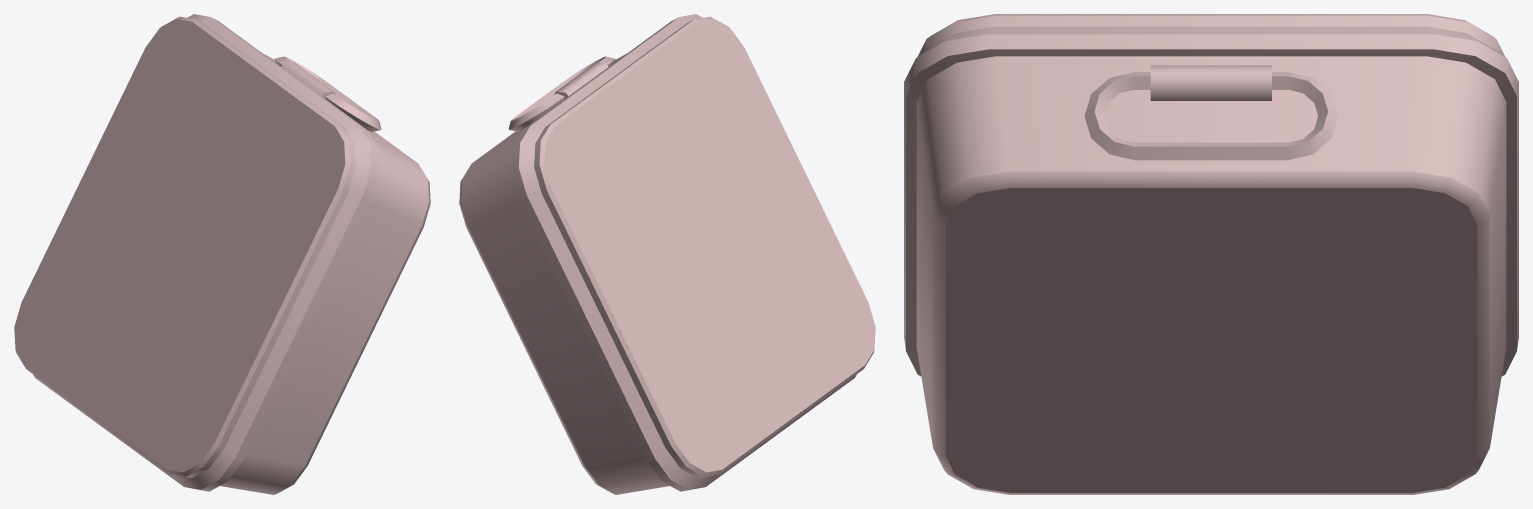
Rendered from Heal.fbx.
3 renders of one model, left to right at view 1: azimuth 30°, elevation 25°; view 2: azimuth 150°, elevation 25°; view 3: azimuth 270°, elevation 25°, orthographic. The views are drawn at different scales.
Parts seen in each view (by area): view 1: medkit_medium_reference; view 2: medkit_medium_reference; view 3: medkit_medium_reference.
Part boxes in pixels (x1,y1,x2,y2): medkit_medium_reference: [14, 14, 430, 494]; medkit_medium_reference: [459, 14, 875, 494]; medkit_medium_reference: [904, 14, 1518, 494].
Bounding box in the file's own units: 1755 × 2341 × 2406.
